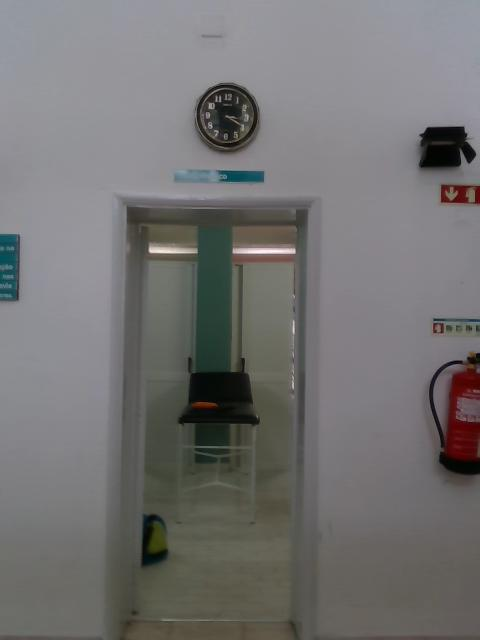open_door: (106, 191, 321, 637)
